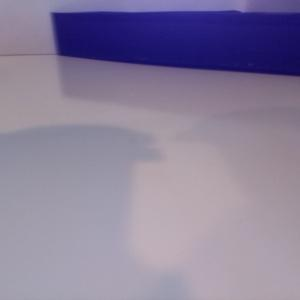zone: (53, 10, 300, 76)
